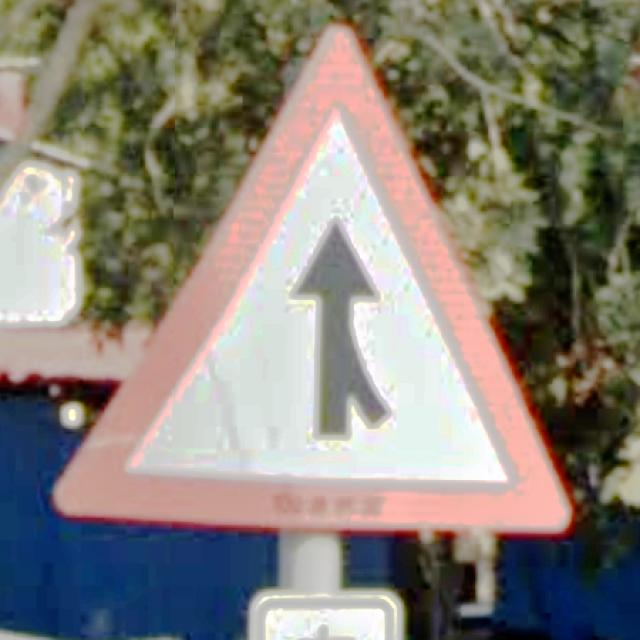rightmerge: (53, 25, 572, 535)
